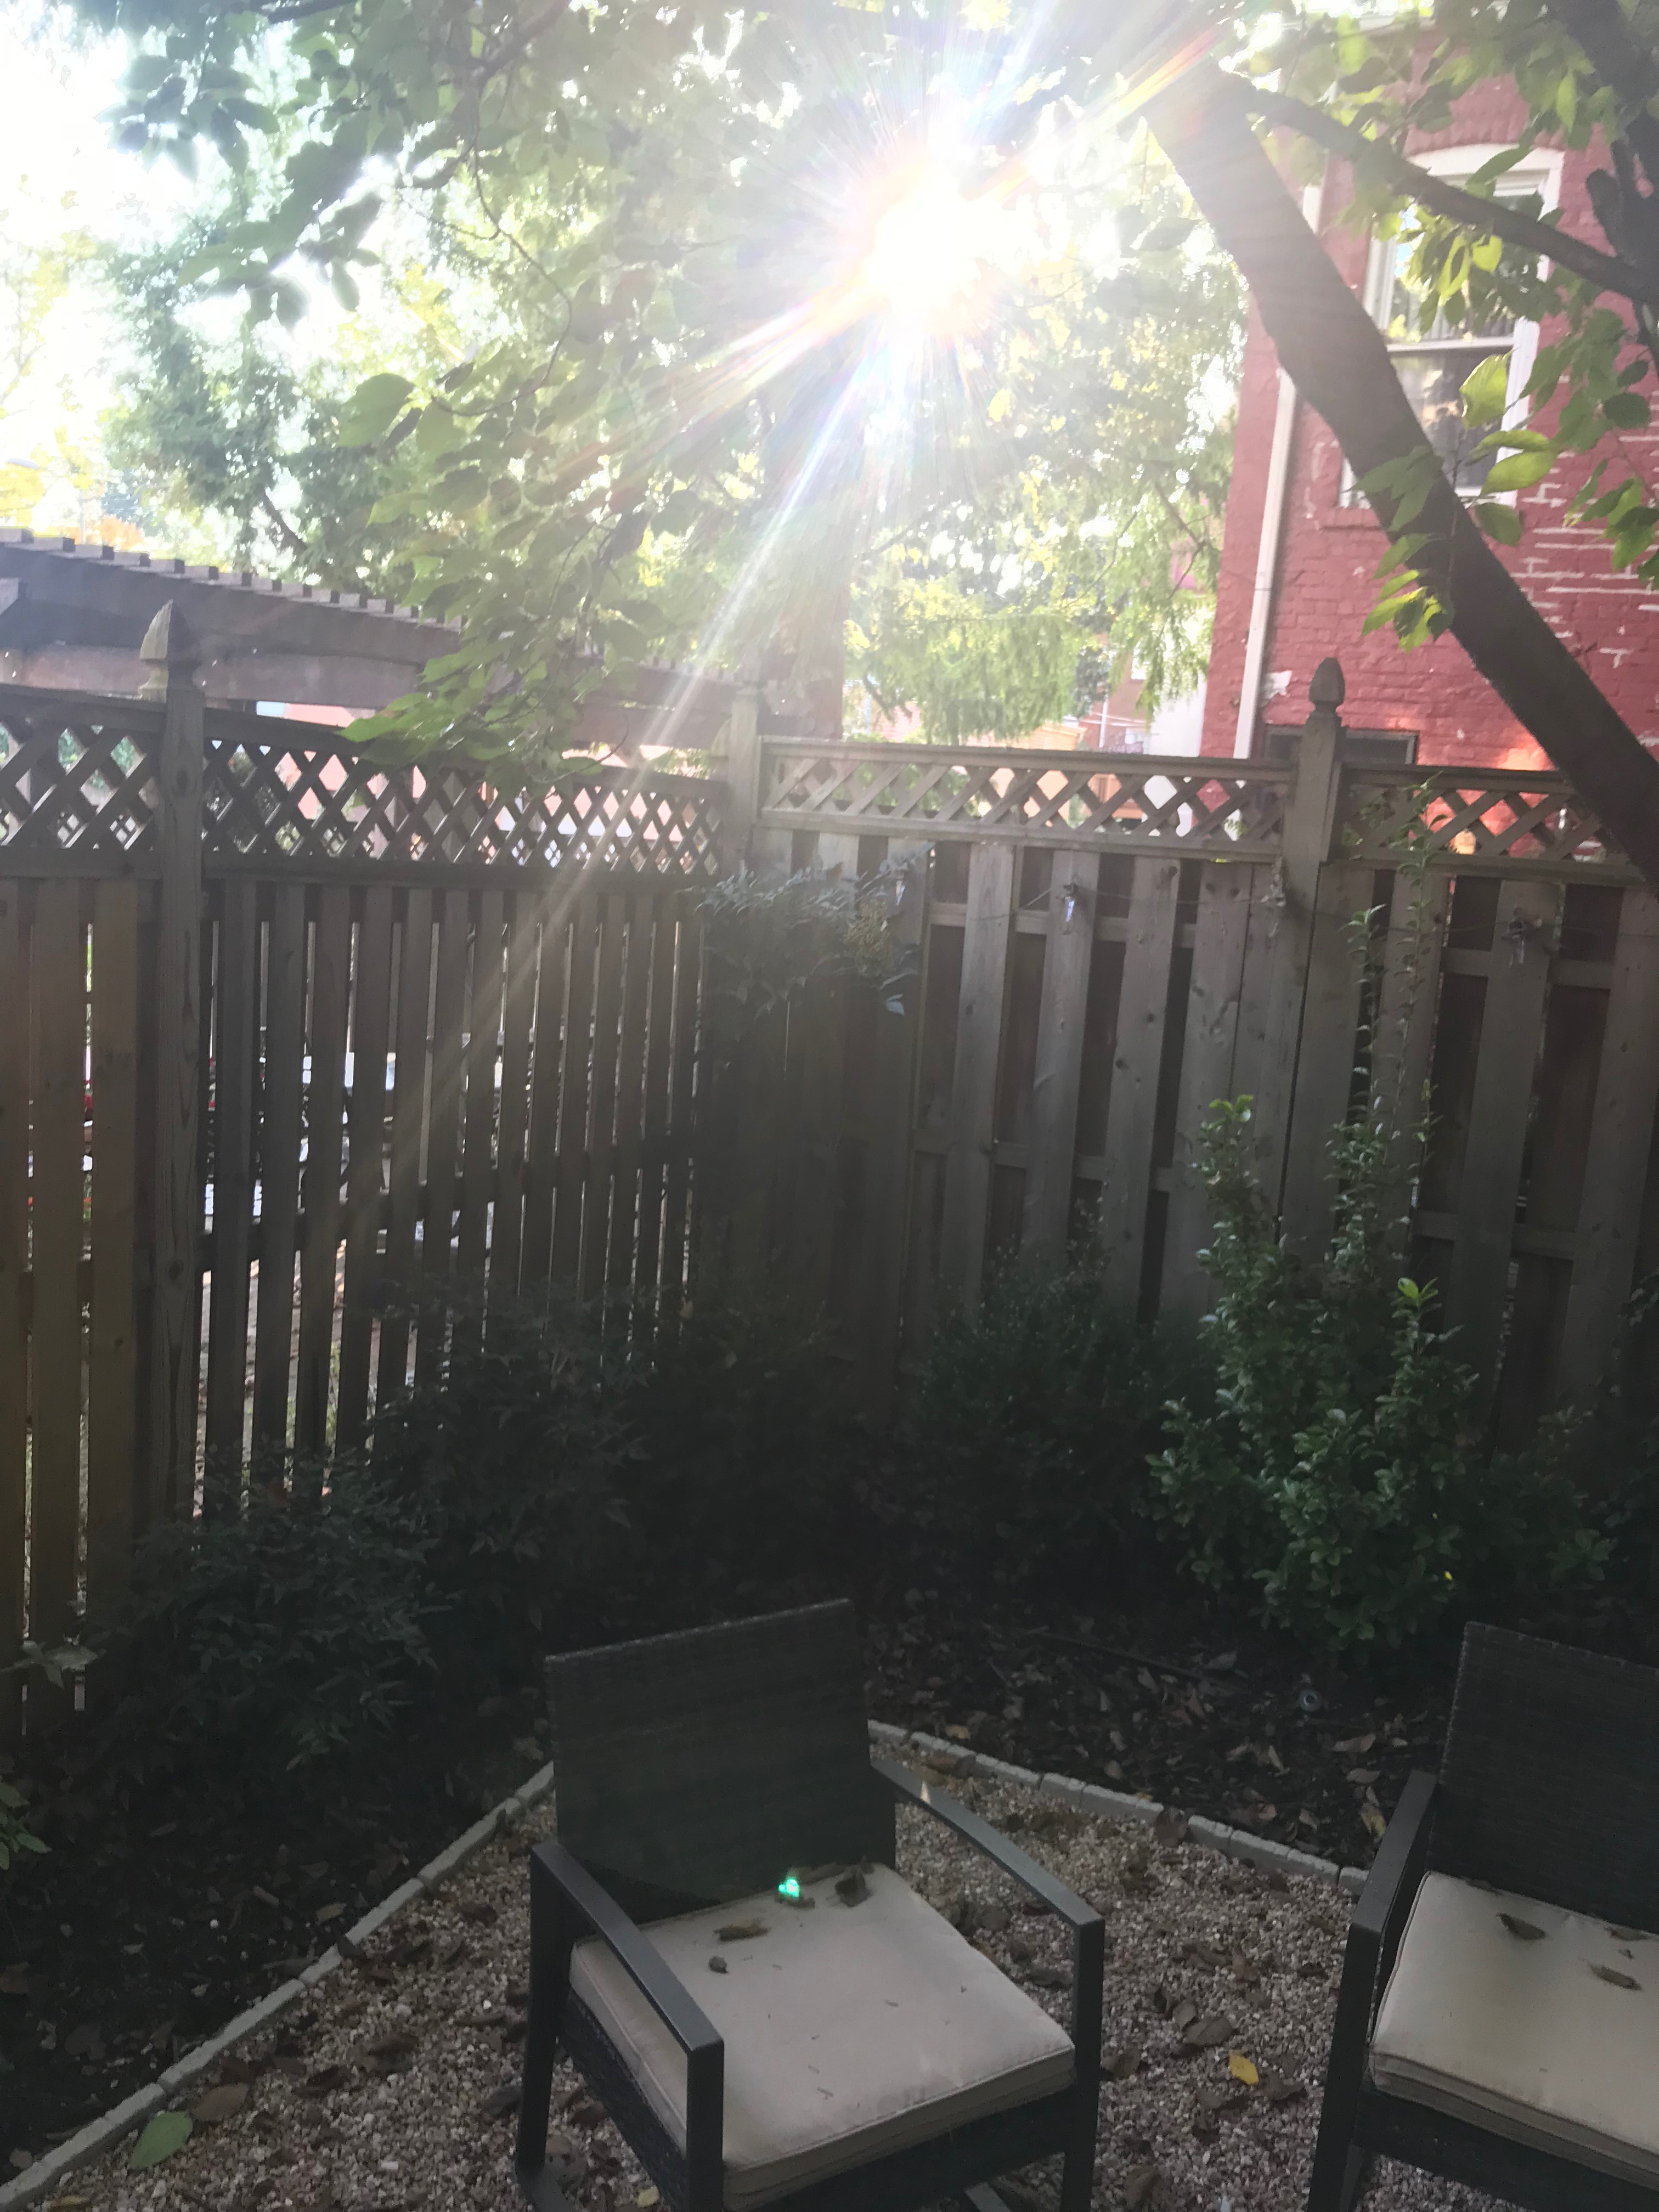flare: (775, 1874, 803, 1902)
